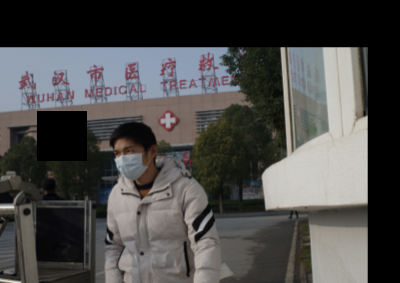with_mask: (112, 145, 148, 179)
